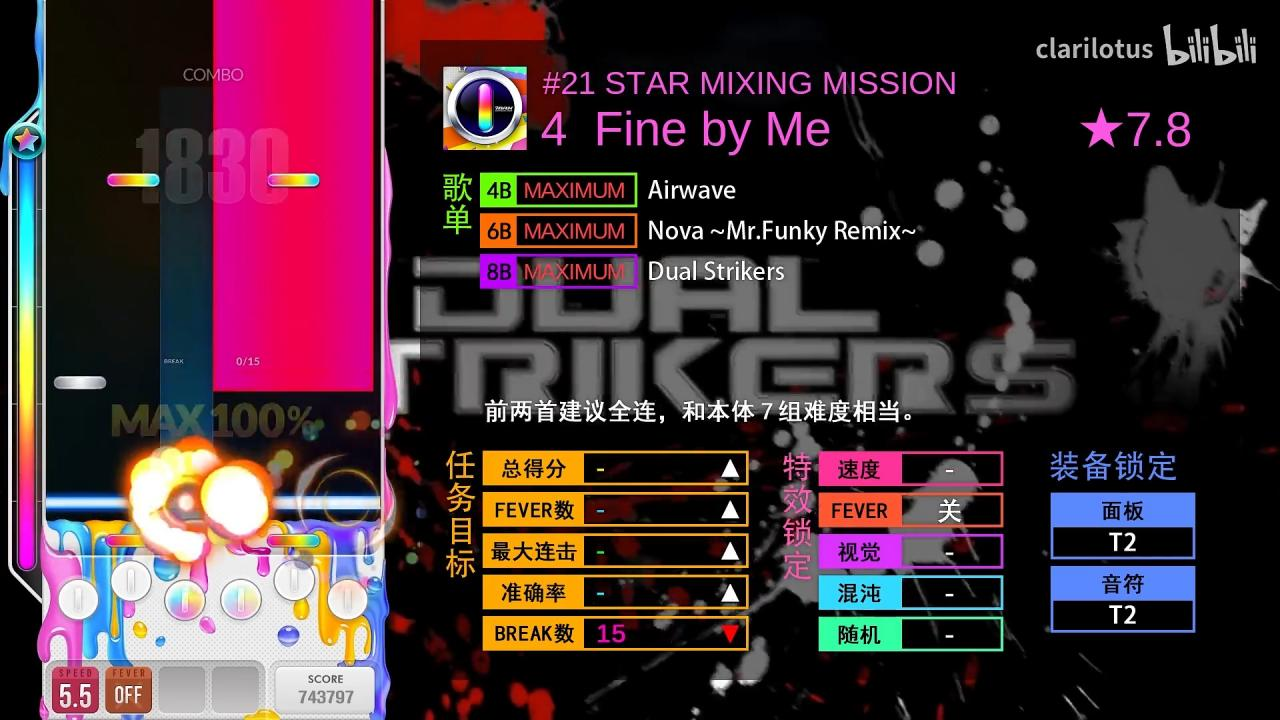note: (267, 172, 321, 188), (107, 173, 159, 187), (54, 376, 106, 389)
xstart: (213, 378, 374, 391)
